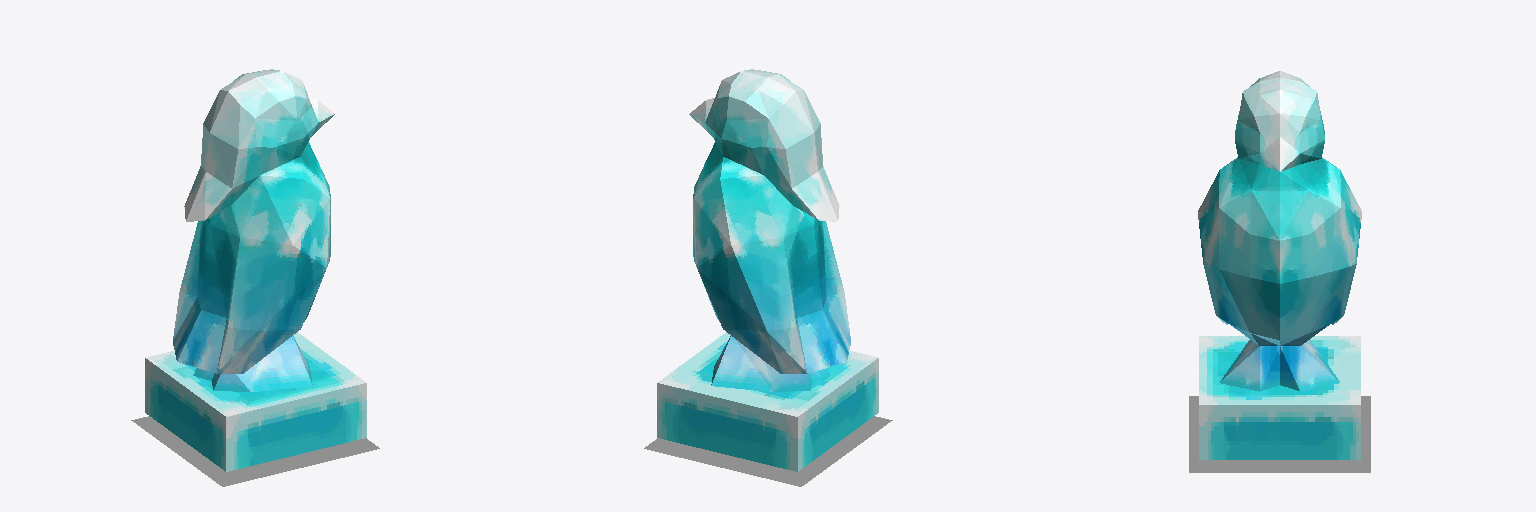
3 views of the same model, side by side, from view 1: azimuth 30°, elevation 25°; view 2: azimuth 150°, elevation 25°; view 3: azimuth 270°, elevation 25° (orthographic).
Visible parts, largest first — view 1: polySurface53.001; view 2: polySurface53.001; view 3: polySurface53.001.
Part boxes in pixels (left/top/right/bottom): polySurface53.001: left=131, top=69, right=379, bottom=486; polySurface53.001: left=644, top=69, right=892, bottom=486; polySurface53.001: left=1189, top=71, right=1370, bottom=472.
Bounding box in the file's own units: 0.8322 × 1.8 × 0.8322.
2 materials, 1 textured.